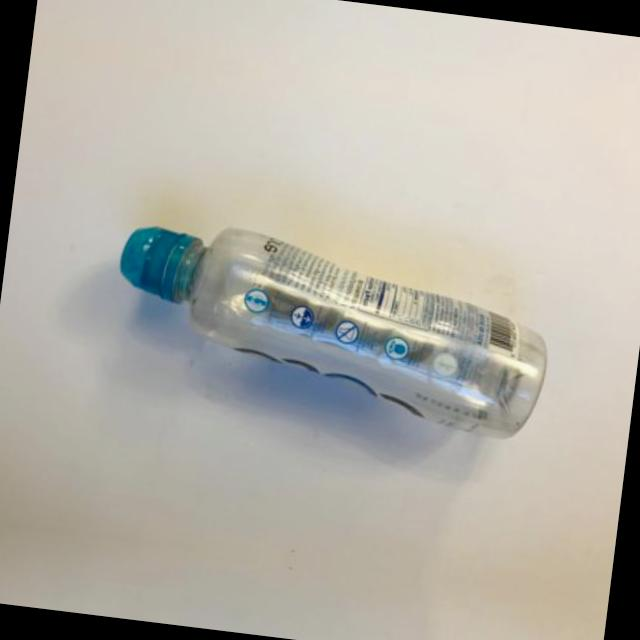Plastic: (40, 198, 595, 484)
